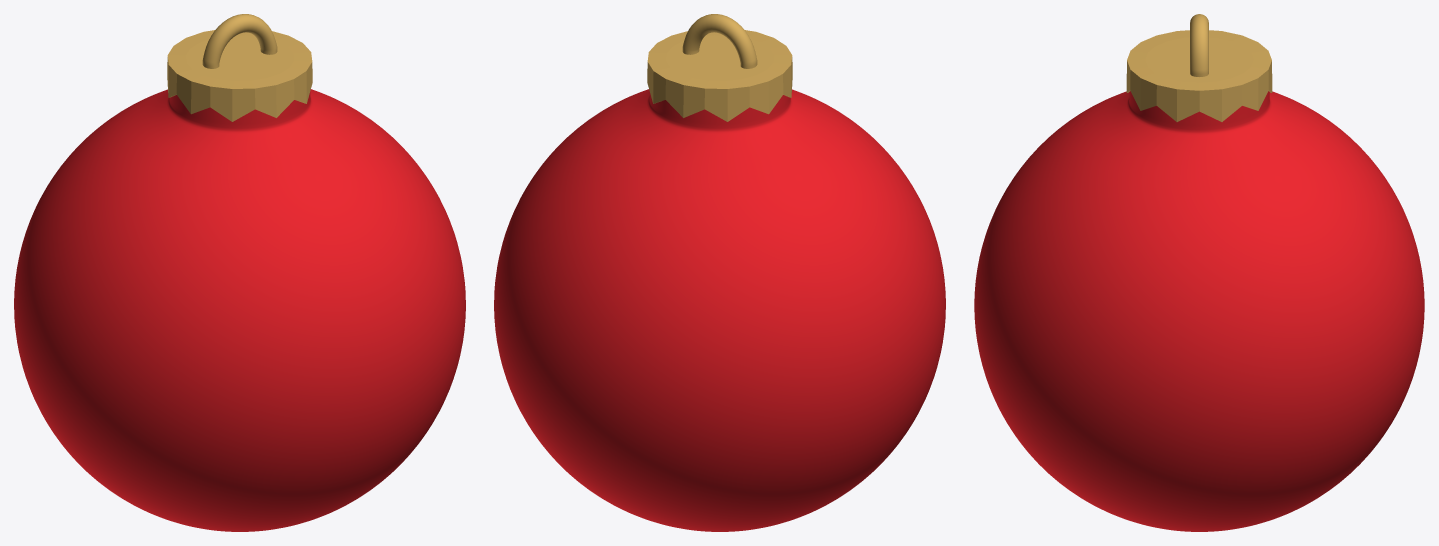
The model's file is christmasBall1.fbx.
3 views of the same model, side by side, from view 1: azimuth 30°, elevation 25°; view 2: azimuth 150°, elevation 25°; view 3: azimuth 270°, elevation 25° (orthographic).
Parts seen in each view (by area): view 1: Sphere, Circle, Torus; view 2: Sphere, Circle, Torus; view 3: Sphere, Circle, Torus.
Boxes of the visible parts, x1,y1,x2,y2 form: Sphere: (14,89,465,531); Circle: (167,30,312,121); Torus: (202,14,277,68); Sphere: (494,89,945,531); Circle: (647,30,792,121); Torus: (682,14,757,68); Sphere: (974,91,1424,531); Circle: (1126,30,1272,121); Torus: (1190,14,1208,76).
Size of the model in its own units: 197 by 239 by 197.
